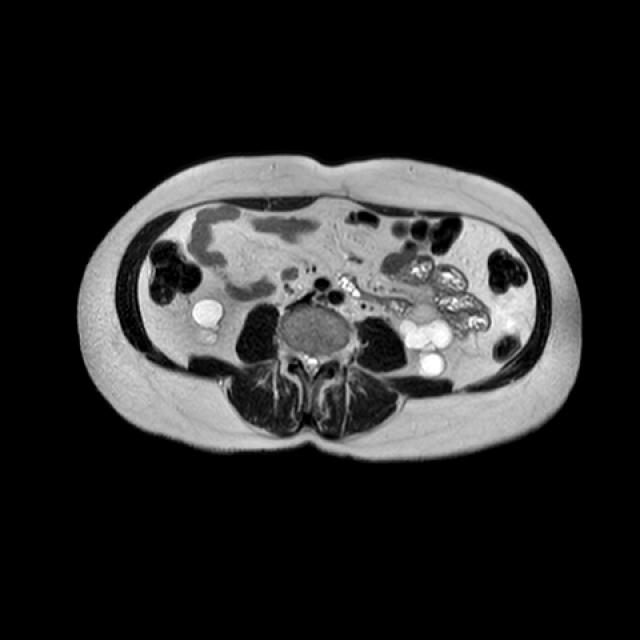sag: (188, 287, 230, 342)
sol: (400, 302, 453, 379)
